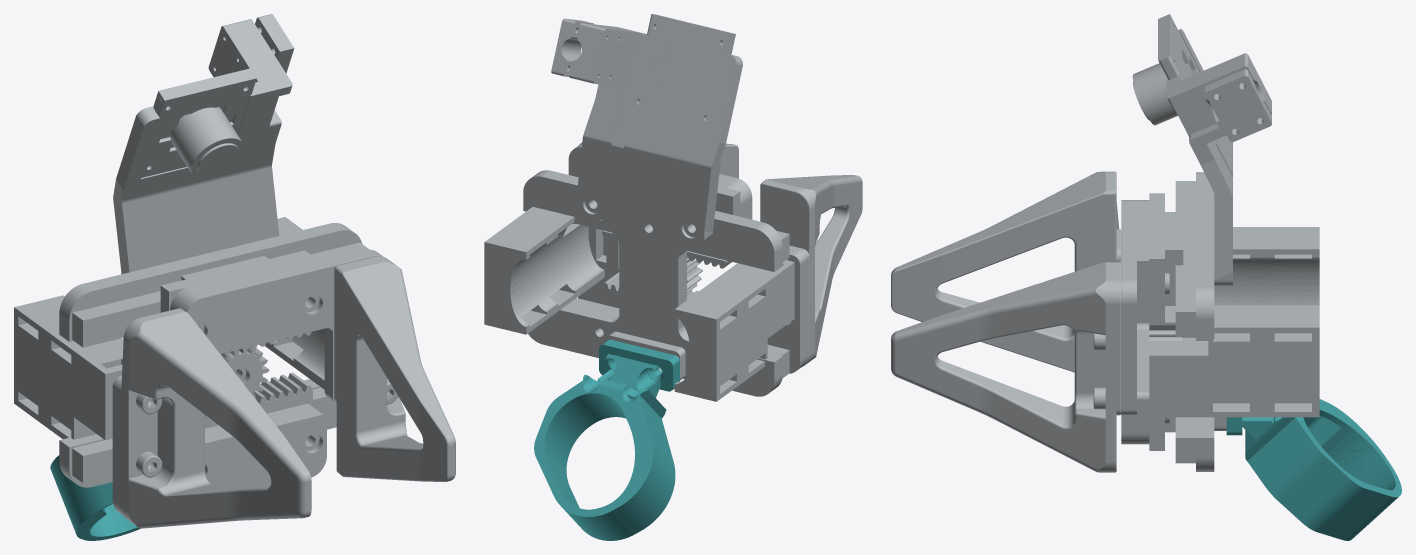
Rendered from yam_with_handumi_mount.glb.
3 views of the same model, side by side, from view 1: azimuth 30°, elevation 25°; view 2: azimuth 150°, elevation 25°; view 3: azimuth 270°, elevation 25° (orthographic). The views are drawn at different scales.
Parts seen in each view (by area): view 1: official_yam_tip_2, fisheye_camera_mount, official_yam_tip_1, finger_bracket_1, finger_holder_2, main_plate, finger_bracket_2, handumi_yam_right_support, rail_2, camera_lens_schematic, finger_holder_1, rail_1 (+4 smaller); view 2: fisheye_camera_mount, main_plate, handumi_yam_right_support, finger_holder_2, finger_holder_1, official_yam_tip_2, finger_bracket_2, camera_pcb_schematic, finger_bracket_1, official_yam_tip_1, adapter_1, rail_1 (+1 smaller); view 3: official_yam_tip_1, finger_holder_1, official_yam_tip_2, handumi_yam_right_support, fisheye_camera_mount, finger_holder_2, finger_bracket_1, main_plate, rail_2, adapter_1, finger_bracket_2, camera_lens_schematic (+2 smaller).
Part boxes in pixels (x1=…): official_yam_tip_2: x1=121, y1=308, x2=311, y2=528; fisheye_camera_mount: x1=113, y1=14, x2=294, y2=274; official_yam_tip_1: x1=334, y1=256, x2=455, y2=481; finger_bracket_1: x1=170, y1=249, x2=383, y2=403; finger_holder_2: x1=14, y1=295, x2=123, y2=440; main_plate: x1=59, y1=223, x2=362, y2=487; finger_bracket_2: x1=112, y1=375, x2=326, y2=515; handumi_yam_right_support: x1=50, y1=455, x2=140, y2=540; rail_2: x1=72, y1=242, x2=369, y2=347; camera_lens_schematic: x1=170, y1=107, x2=244, y2=180; finger_holder_1: x1=265, y1=217, x2=324, y2=389; rail_1: x1=72, y1=387, x2=336, y2=482; fisheye_camera_mount: x1=551, y1=14, x2=742, y2=244; main_plate: x1=523, y1=170, x2=782, y2=396; handumi_yam_right_support: x1=534, y1=339, x2=679, y2=540; finger_holder_2: x1=674, y1=260, x2=794, y2=401; finger_holder_1: x1=484, y1=207, x2=604, y2=334; official_yam_tip_2: x1=760, y1=175, x2=862, y2=366; finger_bracket_2: x1=692, y1=247, x2=807, y2=373; camera_pcb_schematic: x1=639, y1=24, x2=733, y2=120; finger_bracket_1: x1=568, y1=143, x2=752, y2=274; official_yam_tip_1: x1=578, y1=142, x2=738, y2=305; adapter_1: x1=602, y1=186, x2=740, y2=268; rail_1: x1=569, y1=298, x2=789, y2=377; official_yam_tip_1: x1=891, y1=262, x2=1121, y2=472; finger_holder_1: x1=1149, y1=305, x2=1319, y2=417; official_yam_tip_2: x1=891, y1=171, x2=1121, y2=372; handumi_yam_right_support: x1=1226, y1=399, x2=1401, y2=540; fisheye_camera_mount: x1=1158, y1=14, x2=1271, y2=285; finger_holder_2: x1=1214, y1=227, x2=1319, y2=305; finger_bracket_1: x1=1121, y1=200, x2=1149, y2=414; main_plate: x1=1182, y1=172, x2=1226, y2=471; rail_2: x1=1175, y1=181, x2=1195, y2=336; adapter_1: x1=1149, y1=193, x2=1175, y2=330; finger_bracket_2: x1=1121, y1=323, x2=1149, y2=444; camera_lens_schematic: x1=1132, y1=63, x2=1177, y2=125.
Size of the model in its own units: 0.102 by 0.1798 by 0.165.
